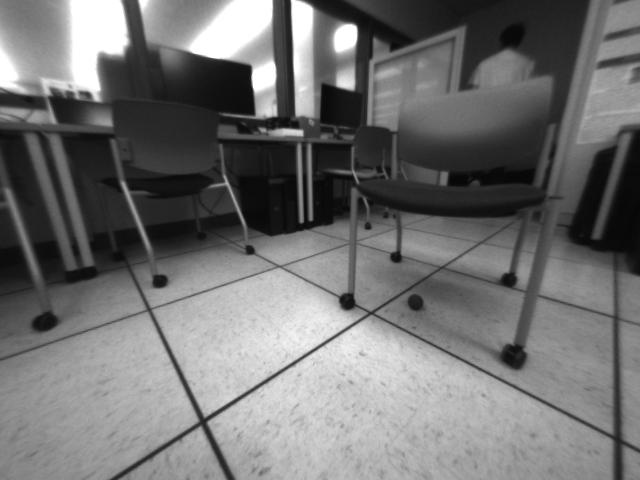dogtoy: (405, 289, 426, 313)
